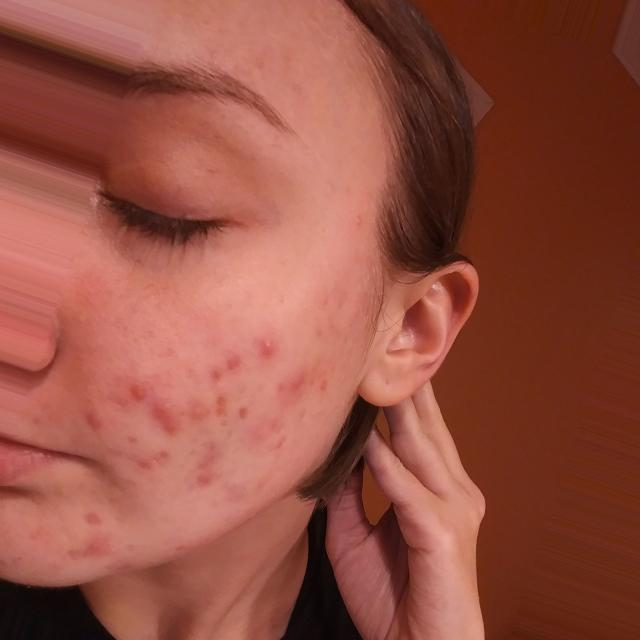Acne: (310, 266, 352, 358), (285, 369, 342, 415), (65, 530, 125, 570), (65, 405, 120, 445), (128, 448, 188, 482), (198, 447, 240, 492), (182, 394, 232, 428), (114, 382, 174, 408), (213, 354, 257, 385), (267, 431, 300, 464), (155, 406, 182, 440), (82, 509, 123, 531), (255, 330, 287, 358), (230, 402, 262, 428)
